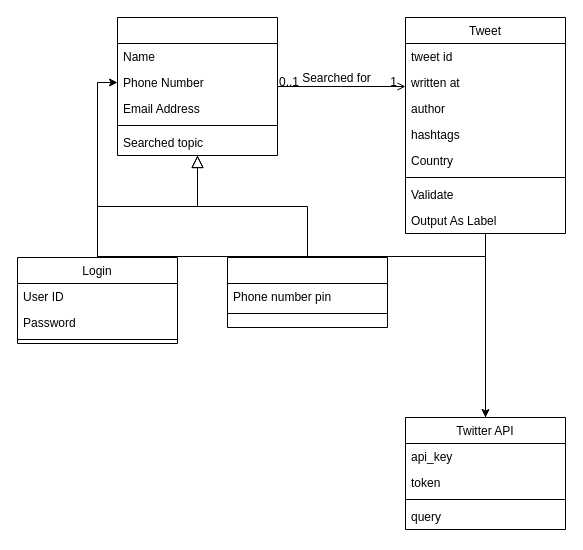
Some shapes in this 583 by 550 pixel diagram are drawn without their labels. Here are the shapes that lost their labels. From the top down, the box of each, then its label:
(116, 16, 278, 156): User
(226, 256, 388, 328): Authentication
